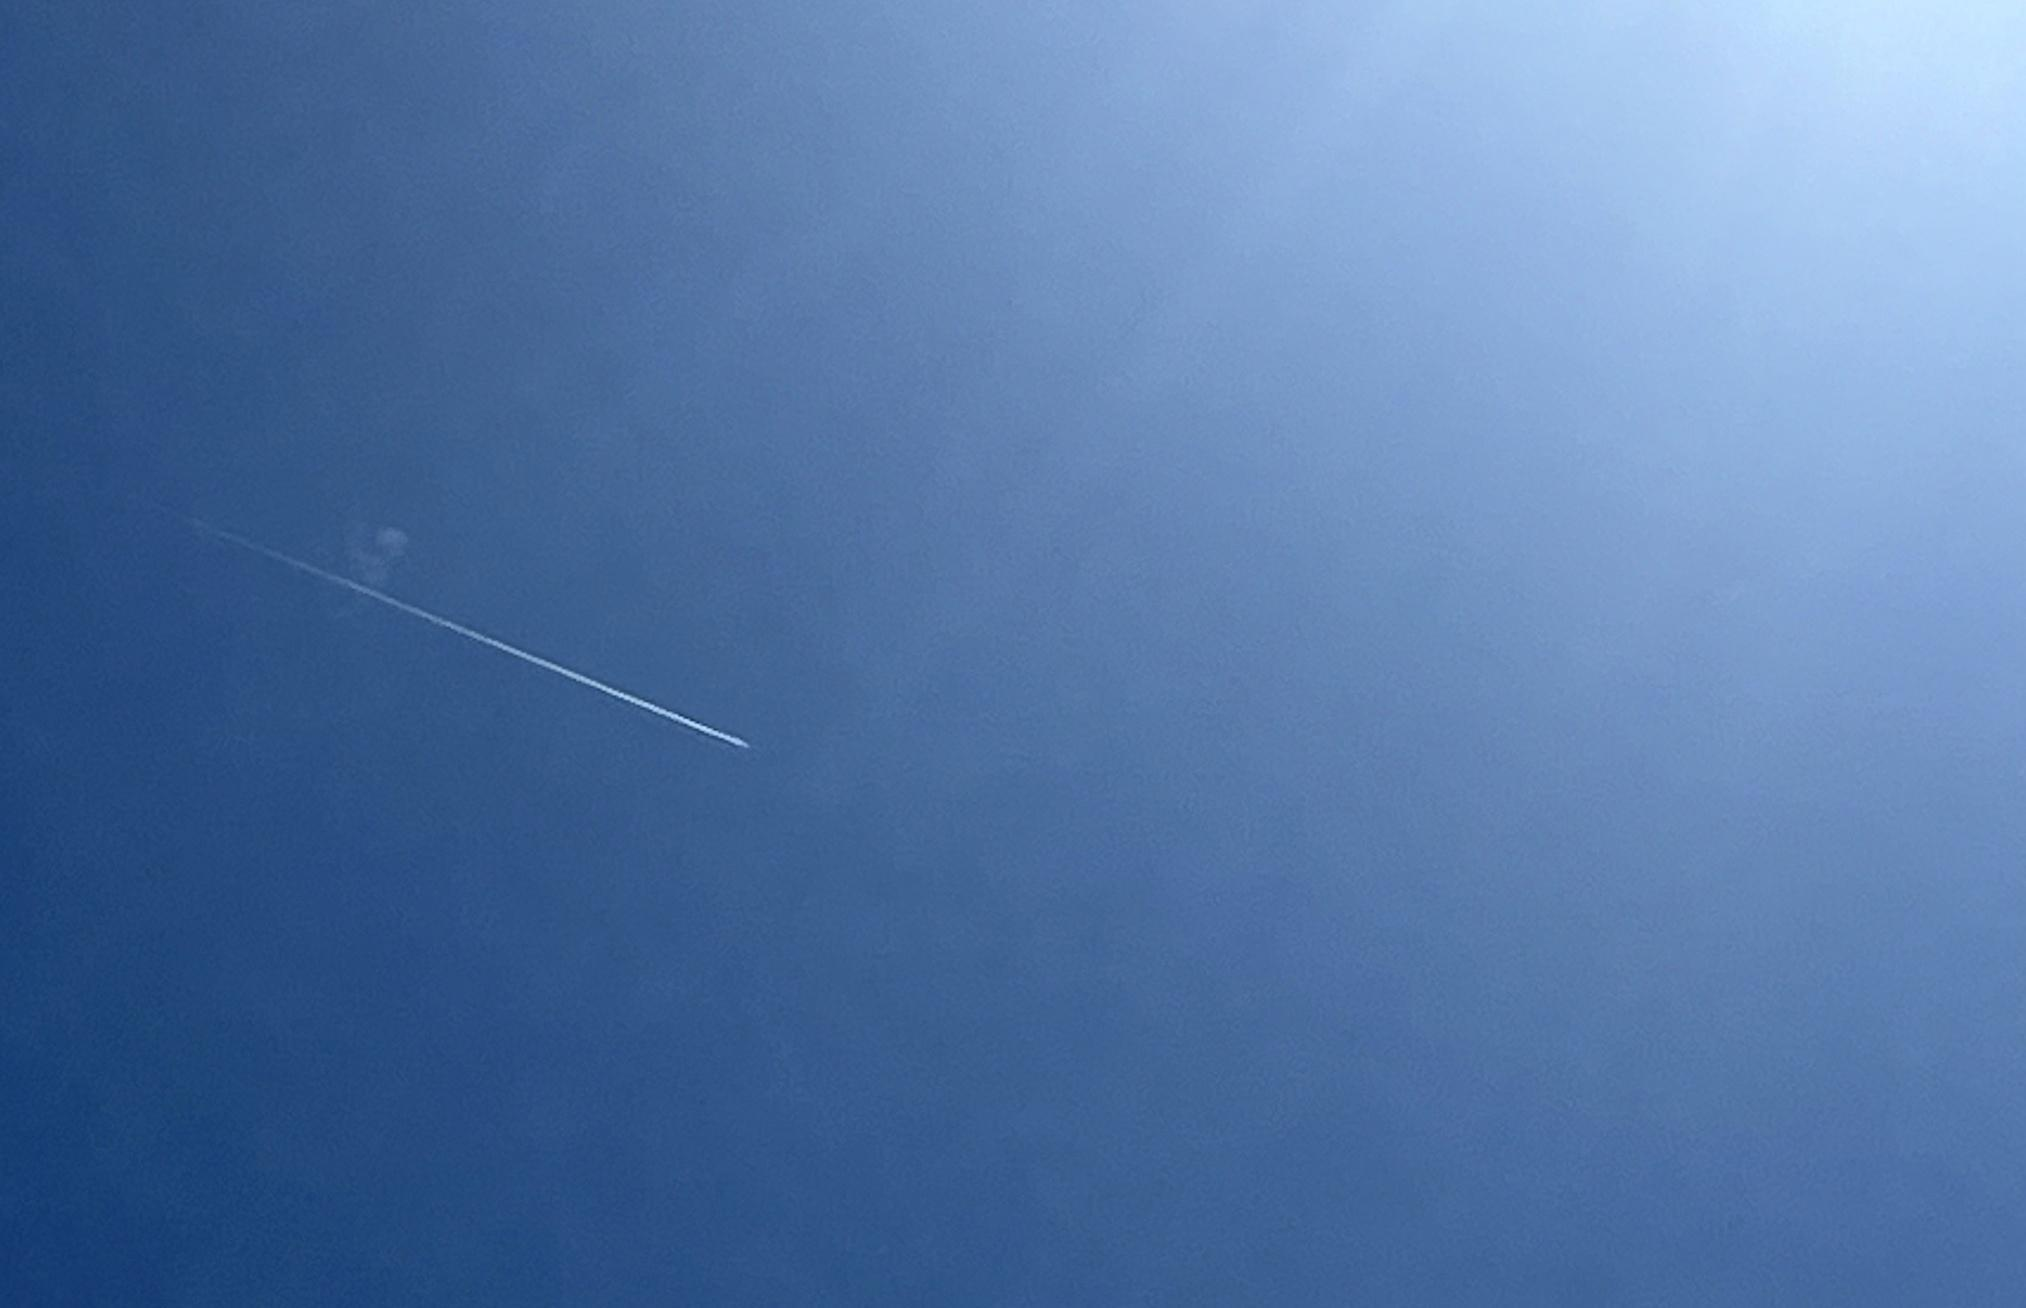Plane: (602, 684, 790, 766)
